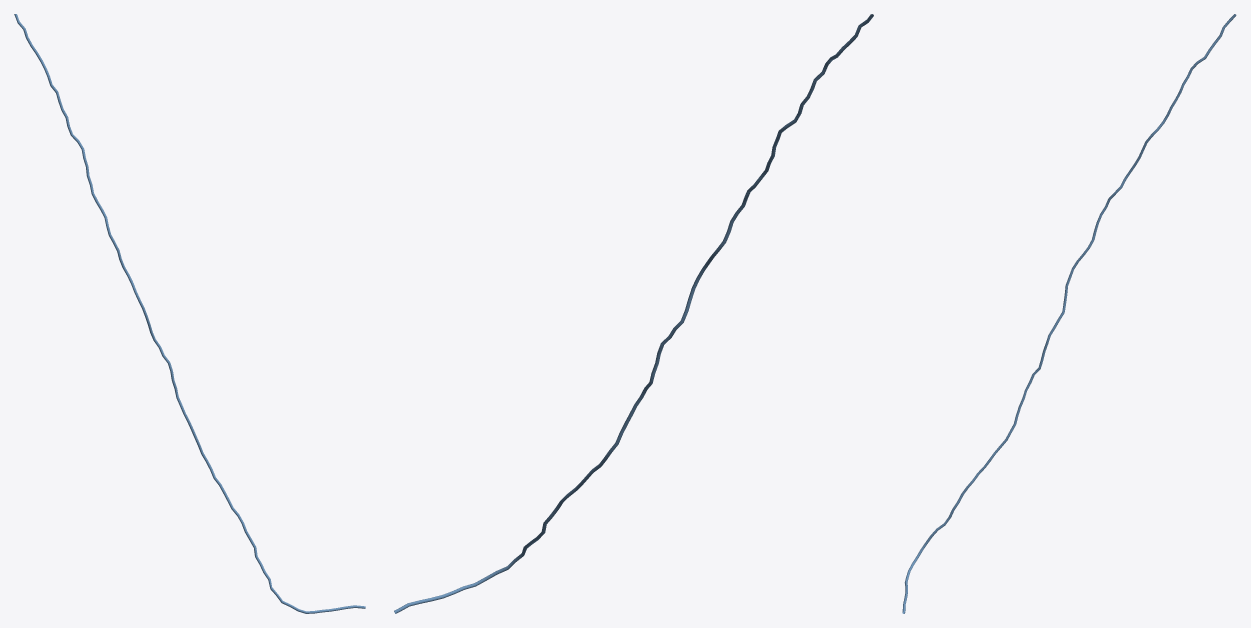
Rendered from sweep245.fbx.
The picture shows the model from 3 angles, left to right: view 1: azimuth 30°, elevation 25°; view 2: azimuth 210°, elevation 25°; view 3: azimuth 270°, elevation 25°; orthographic projection. The views are drawn at different scales.
Visible parts, largest first — view 1: sweep245; view 2: sweep245; view 3: sweep245.
Boxes of the visible parts, left/top/right/bottom form: sweep245: left=14, top=14, right=365, bottom=613; sweep245: left=394, top=14, right=873, bottom=613; sweep245: left=902, top=14, right=1236, bottom=613.
Bounding box in the file's own units: 1.53 × 4.12 × 2.44.
